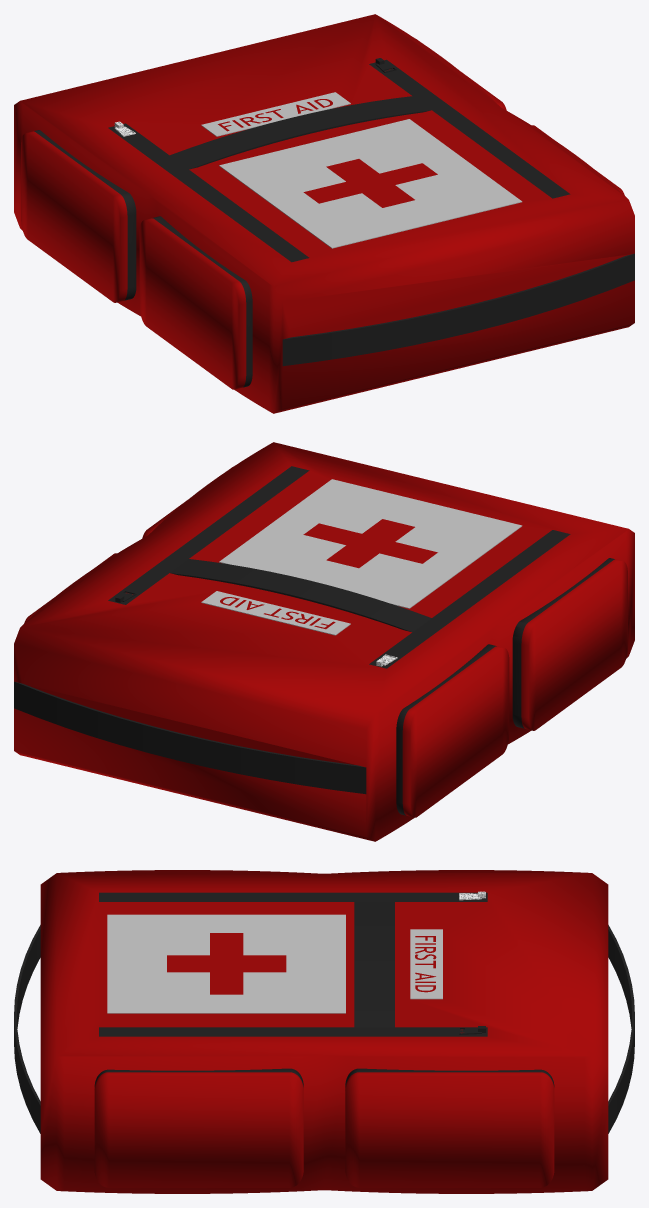
The model's file is first aid kit.dae.
The picture shows the model from 3 angles, top to bottom: view 1: azimuth 30°, elevation 25°; view 2: azimuth 150°, elevation 25°; view 3: azimuth 270°, elevation 25°; orthographic projection. The views are drawn at different scales.
Visible parts, largest first — view 1: L4D_FIRST_AID_KIT_SCALED_TO_SIZE (×10); view 2: L4D_FIRST_AID_KIT_SCALED_TO_SIZE (×10); view 3: L4D_FIRST_AID_KIT_SCALED_TO_SIZE (×11).
Boxes of the visible parts, left/top/right/bottom form: L4D_FIRST_AID_KIT_SCALED_TO_SIZE (×10): left=14, top=14, right=634, bottom=413; L4D_FIRST_AID_KIT_SCALED_TO_SIZE (×10): left=14, top=442, right=634, bottom=841; L4D_FIRST_AID_KIT_SCALED_TO_SIZE (×11): left=14, top=870, right=634, bottom=1193.
Bounding box in the file's own units: 11.02 × 14.43 × 3.67.
